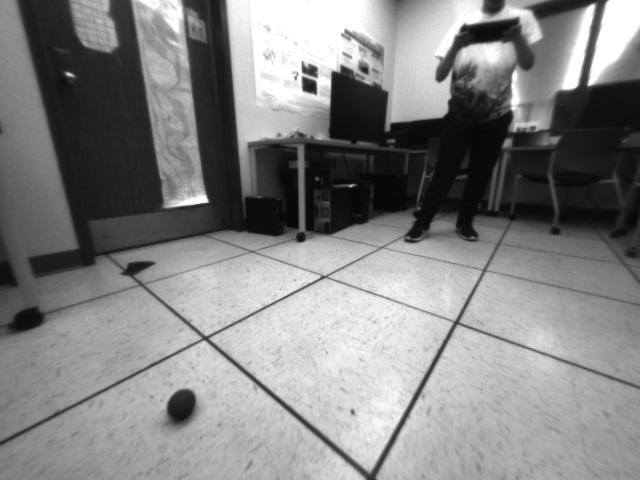dogtoy: (157, 376, 205, 427)
